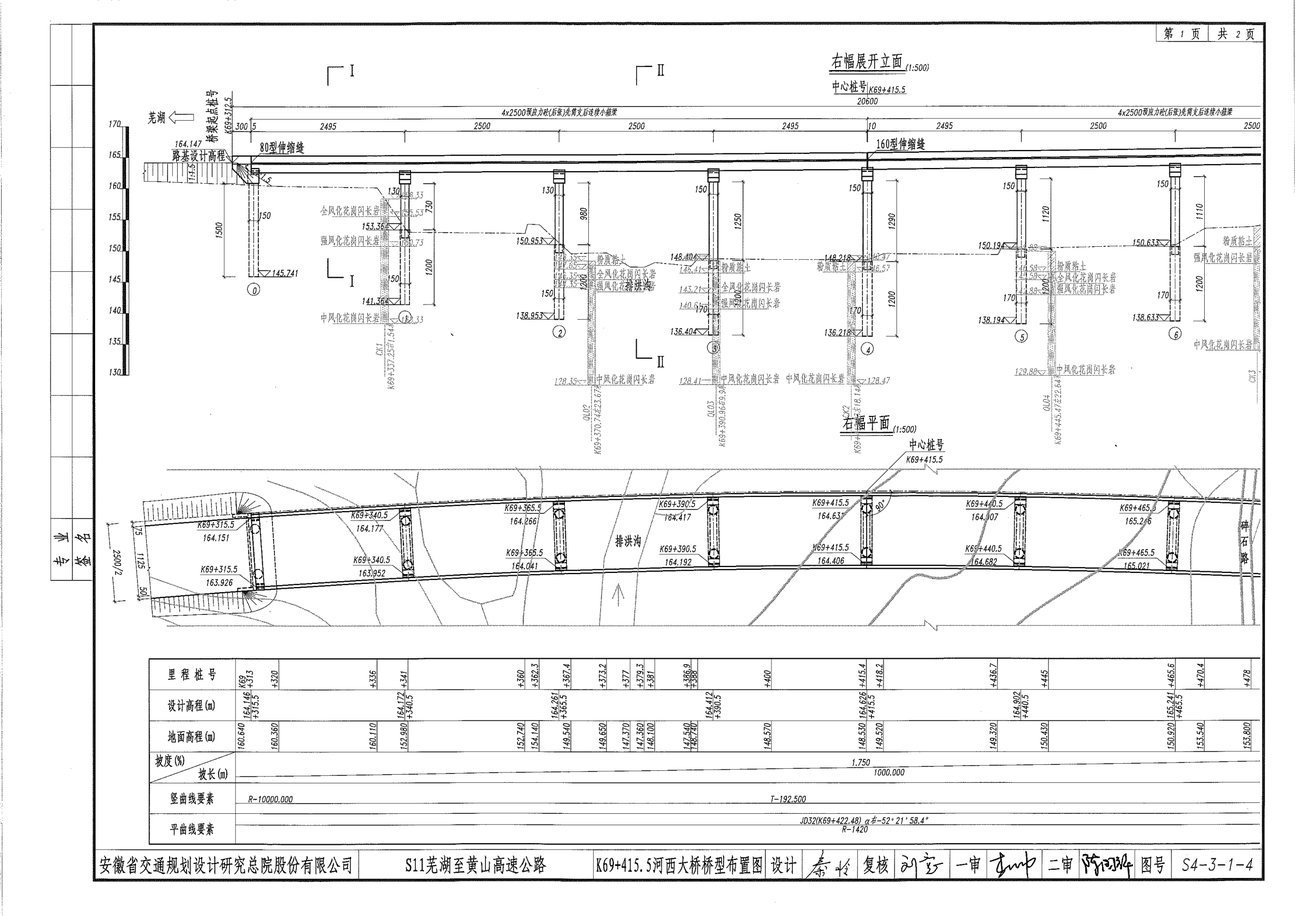A: (103, 39, 1264, 390)
